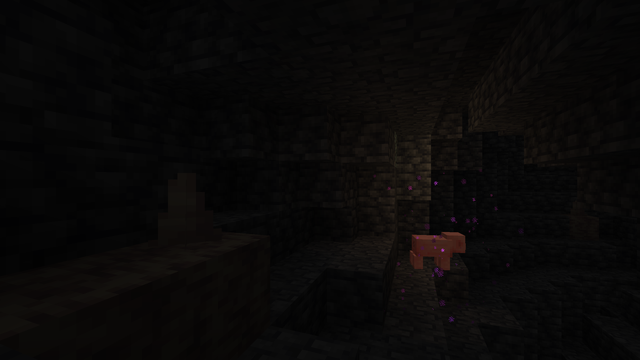cochons: (415, 232, 449, 272)
